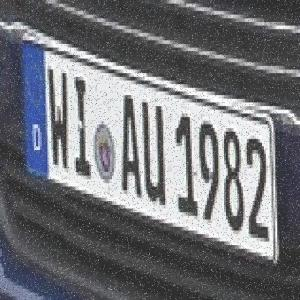Plate: (20, 35, 281, 257)
